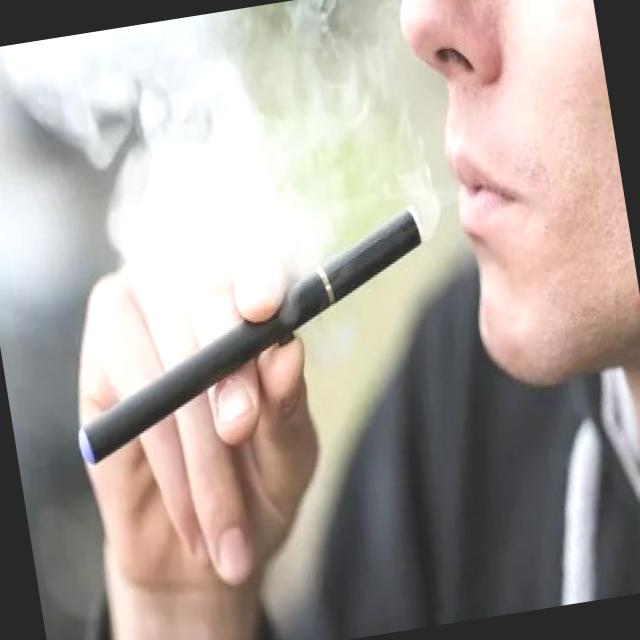smoke: (44, 195, 454, 472)
